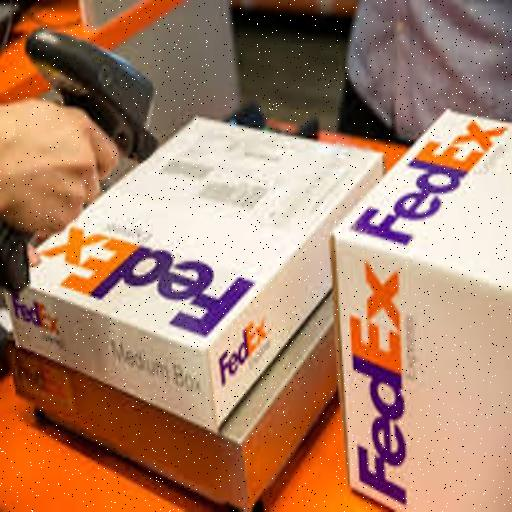FedEx: (17, 111, 387, 426), (334, 111, 512, 512)
